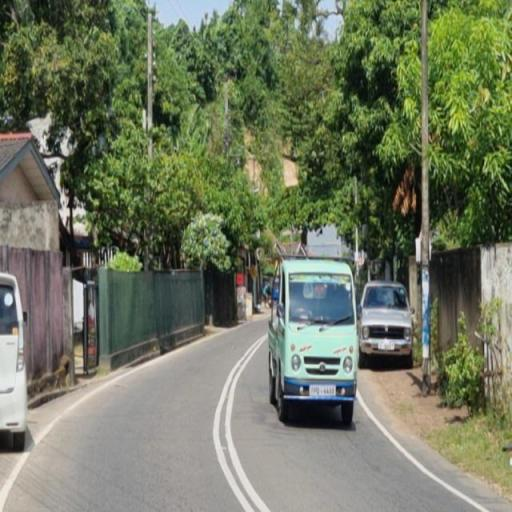double_white_line: (213, 331, 266, 512)
